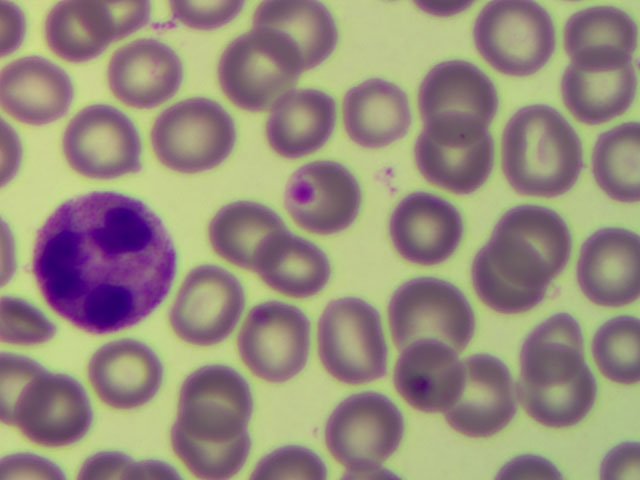RBC: (64, 106, 139, 186), (110, 34, 185, 114), (151, 100, 226, 180), (221, 35, 296, 115), (258, 81, 333, 161), (343, 73, 418, 153), (416, 58, 491, 138), (477, 1, 552, 81), (261, 1, 336, 80), (1, 48, 75, 128), (46, 1, 121, 79), (173, 410, 247, 480), (559, 53, 633, 122), (502, 114, 576, 183), (497, 196, 571, 265), (468, 245, 542, 314), (385, 196, 459, 265), (288, 160, 362, 229), (209, 195, 283, 264), (268, 230, 342, 299), (174, 270, 248, 339), (240, 313, 314, 382), (181, 364, 255, 433), (88, 344, 162, 413), (20, 374, 94, 443), (318, 305, 392, 374), (395, 278, 469, 347), (391, 348, 465, 417), (440, 367, 514, 436), (519, 308, 593, 377), (525, 360, 599, 429), (328, 392, 402, 461), (563, 1, 635, 63)
WBC: (32, 192, 175, 334)
